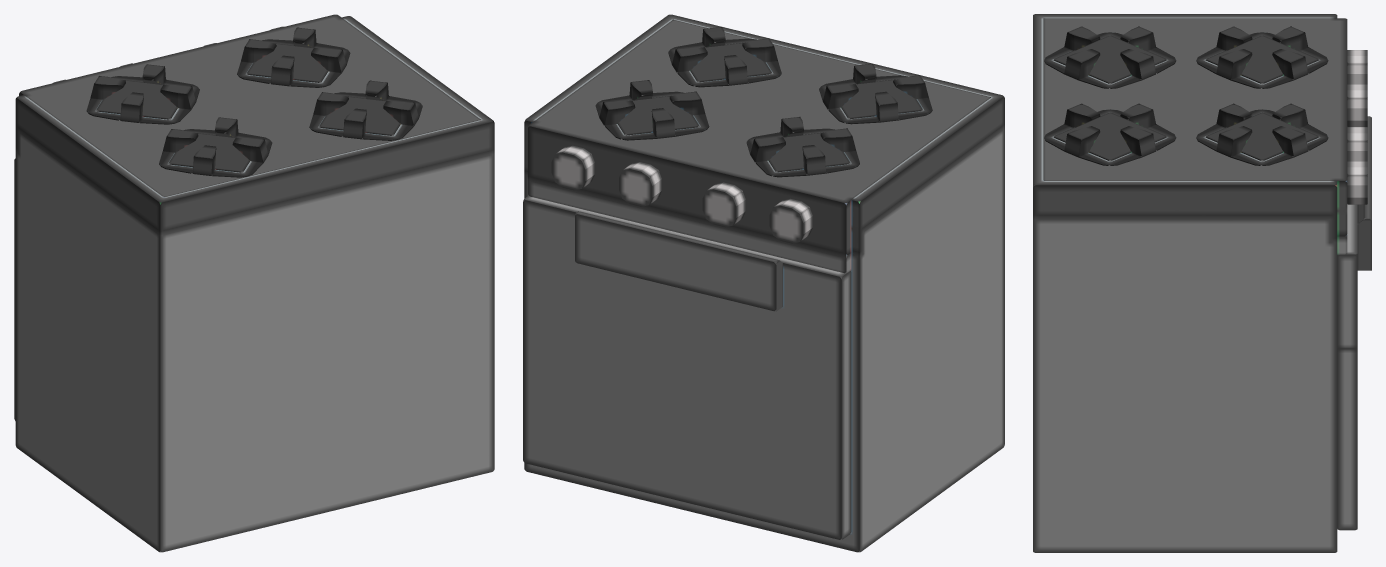
The model's file is stove.fbx.
The picture shows the model from 3 angles, left to right: view 1: azimuth 30°, elevation 25°; view 2: azimuth 150°, elevation 25°; view 3: azimuth 270°, elevation 25°; orthographic projection. The views are drawn at different scales.
Visible parts, largest first — view 1: cube_8, cube, cube_5, cube_6, cube_7; view 2: cube_8, cube_9, cube, cube_6, cube_7, cube_5, cube_3, cube_1, cube_4, cube_2; view 3: cube_8, cube_9, cube_6, cube_5, cube_7, cube, cube_1, cube_3, cube_2, cube_4.
Boxes of the visible parts, <box> form: cube_8: <box>15,14,494,552</box>; cube: <box>309,80,422,140</box>; cube_5: <box>159,117,272,177</box>; cube_6: <box>86,64,199,124</box>; cube_7: <box>237,27,350,87</box>; cube_8: <box>524,14,1004,552</box>; cube_9: <box>523,195,851,539</box>; cube: <box>668,27,781,87</box>; cube_6: <box>746,117,859,177</box>; cube_7: <box>595,80,709,140</box>; cube_5: <box>819,63,932,124</box>; cube_3: <box>702,182,745,227</box>; cube_1: <box>551,145,594,190</box>; cube_4: <box>769,198,812,243</box>; cube_2: <box>619,162,661,206</box>; cube_8: <box>1033,14,1347,552</box>; cube_9: <box>1337,116,1371,530</box>; cube_6: <box>1196,26,1328,88</box>; cube_5: <box>1044,26,1176,88</box>; cube_7: <box>1196,103,1328,165</box>; cube: <box>1044,103,1176,165</box>; cube_1: <box>1347,161,1367,204</box>; cube_3: <box>1347,84,1367,127</box>; cube_2: <box>1347,127,1367,161</box>; cube_4: <box>1347,50,1367,84</box>.
Size of the model in its own units: 125 by 131 by 104.
Materials: 1 (1 with a texture image).
